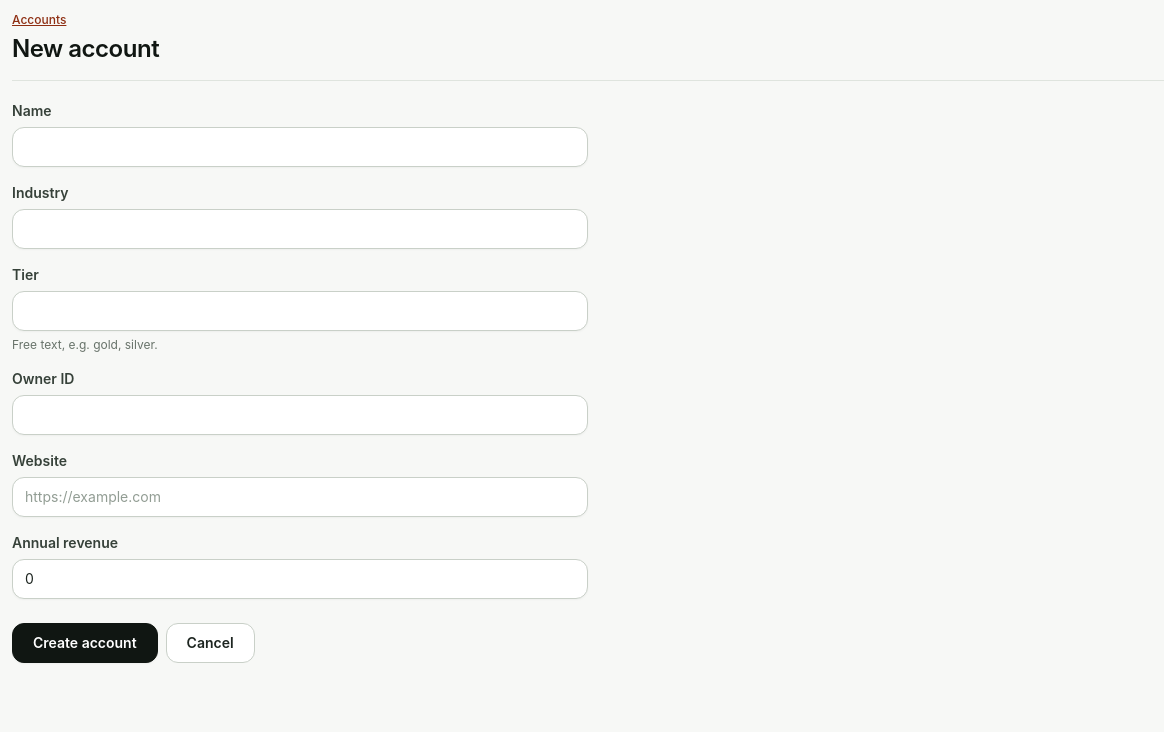
it: AccountFormPage — create › rejects a website that isn't an http(s) URL before any network call
Step 1. Type "New Co" into the field labelled "Name" → [300, 147], box [12,127,588,167]
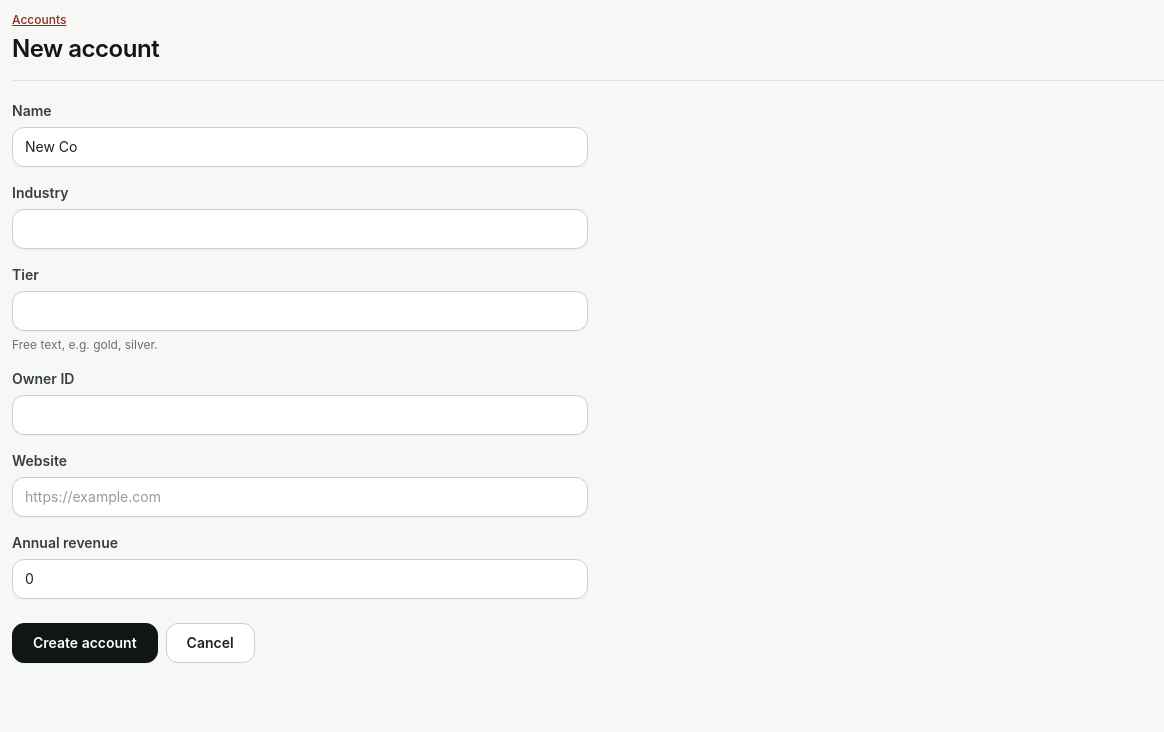
Step 2. Type "user-9" into the field labelled "Owner ID" → [300, 415], box [12,395,588,435]
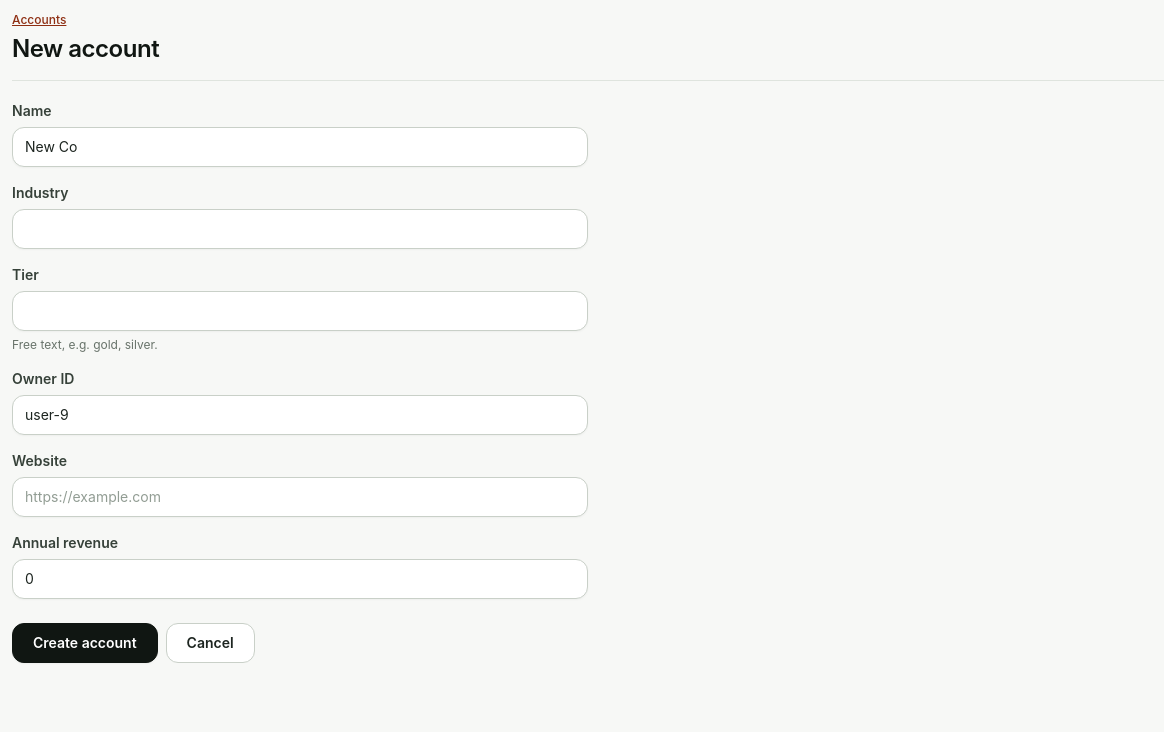
Step 3. Type "acme.example" into the field labelled "Website" → [300, 497], box [12,477,588,517]
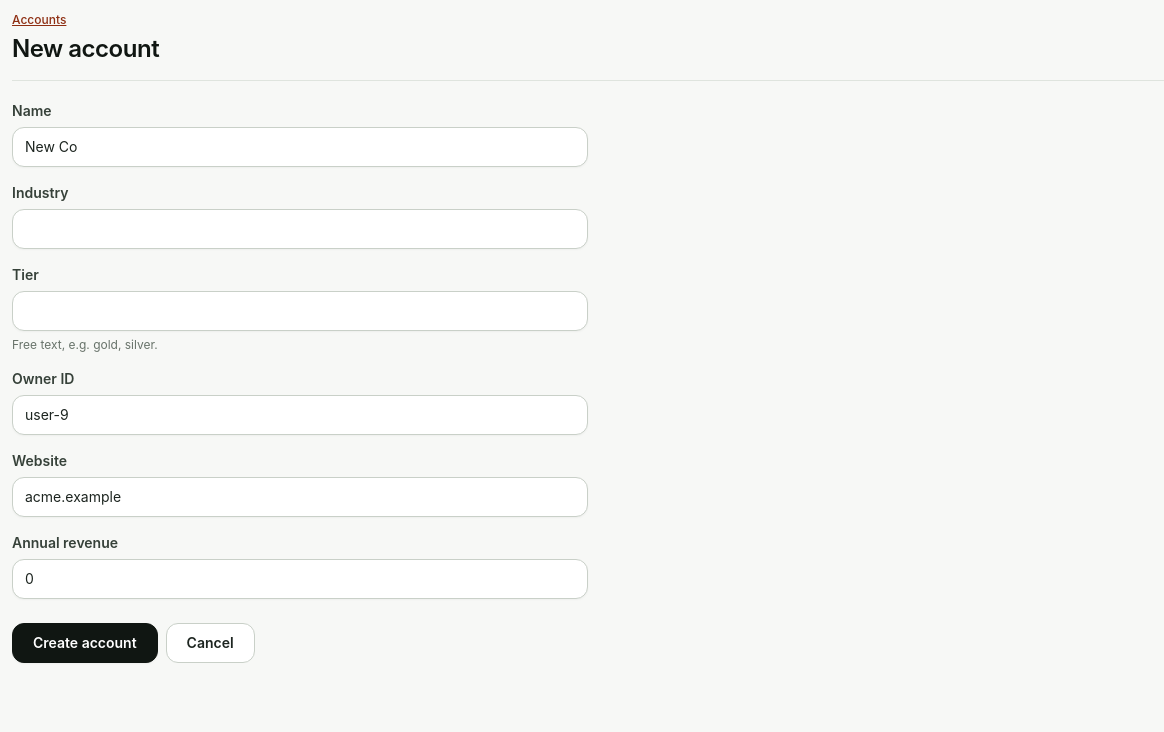
Step 4. Click the button "Create account" → [85, 643], box [12,623,158,663]
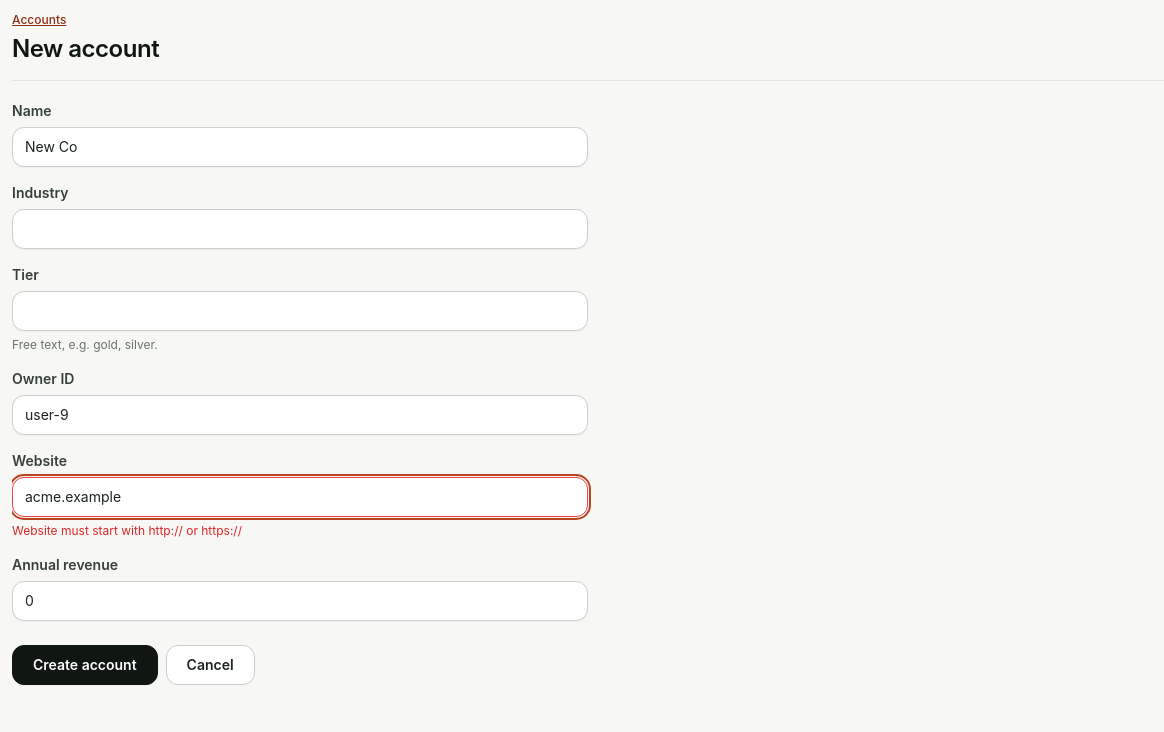
Expected: the text "Website must start with http:// or https://" is shown, [12,523,242,538]
